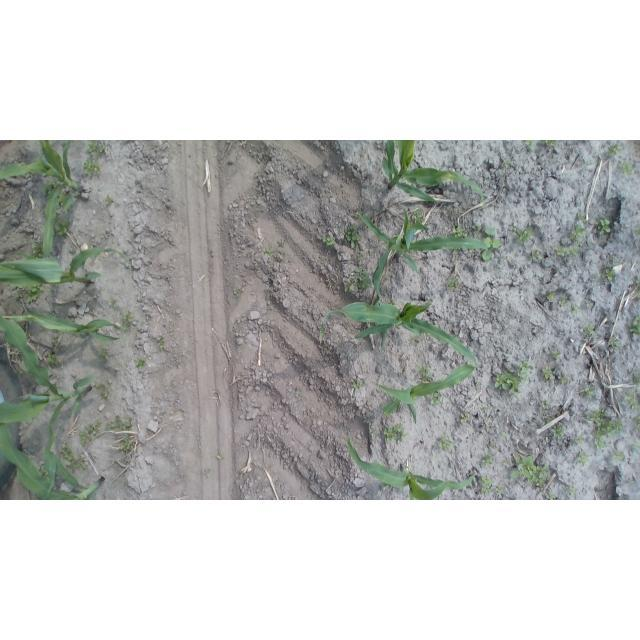Maize: (1, 308, 97, 495), (358, 207, 492, 304), (2, 140, 85, 260), (318, 301, 478, 363), (347, 436, 478, 501), (1, 424, 106, 500), (373, 357, 477, 424), (382, 140, 485, 206), (0, 247, 130, 288), (2, 310, 125, 343)
Weeds: (510, 455, 550, 489), (586, 408, 623, 436), (480, 227, 500, 262), (61, 444, 86, 471), (493, 371, 519, 394), (79, 421, 101, 445), (383, 422, 408, 442), (106, 416, 133, 433), (23, 284, 46, 303), (345, 224, 362, 249), (511, 225, 534, 243), (517, 360, 534, 384), (569, 224, 587, 244), (354, 269, 371, 289), (595, 216, 612, 236), (83, 159, 101, 177), (416, 365, 434, 383), (87, 140, 107, 156), (479, 474, 493, 496), (625, 389, 640, 409), (121, 309, 134, 331), (44, 179, 61, 195), (53, 219, 69, 236), (121, 434, 136, 452), (448, 225, 468, 237), (439, 435, 454, 451), (95, 383, 109, 400), (630, 315, 640, 337), (593, 436, 607, 451), (540, 367, 554, 382), (574, 451, 588, 466), (603, 268, 616, 284), (31, 241, 43, 258), (619, 161, 633, 175), (552, 424, 564, 440), (629, 370, 640, 387), (156, 335, 167, 352), (429, 391, 442, 405), (445, 278, 459, 291), (582, 383, 595, 397), (46, 351, 59, 365), (412, 210, 425, 224), (350, 378, 365, 390), (607, 143, 621, 155), (539, 140, 560, 148), (553, 244, 567, 256), (530, 248, 543, 260), (322, 235, 335, 247), (135, 356, 147, 369), (584, 323, 596, 336), (567, 246, 579, 259), (482, 454, 494, 467), (344, 277, 354, 292), (459, 412, 471, 424), (543, 491, 559, 500), (612, 450, 625, 461), (569, 304, 581, 315), (103, 195, 115, 206), (109, 298, 120, 310), (50, 337, 60, 350), (265, 247, 276, 258), (557, 297, 568, 308), (57, 193, 67, 205), (99, 347, 109, 359), (551, 348, 561, 360), (567, 485, 577, 497), (524, 141, 537, 150), (577, 213, 588, 223), (559, 374, 569, 385), (608, 340, 620, 349), (502, 157, 511, 169), (545, 291, 555, 301), (233, 287, 243, 297), (584, 299, 594, 309), (215, 452, 226, 461), (634, 416, 640, 432), (632, 441, 640, 453), (14, 288, 22, 300), (539, 400, 549, 409), (495, 486, 504, 496), (472, 224, 483, 232), (448, 209, 457, 218), (585, 160, 594, 169), (576, 436, 585, 445), (412, 333, 421, 342), (295, 389, 304, 398), (635, 280, 640, 296), (40, 465, 48, 475), (543, 417, 551, 426), (369, 428, 377, 437), (503, 459, 511, 467), (610, 258, 618, 266), (451, 333, 460, 340), (277, 239, 285, 246), (481, 407, 489, 414), (266, 285, 270, 298), (450, 249, 460, 254), (388, 298, 396, 304), (594, 273, 601, 279), (279, 252, 285, 259), (487, 443, 493, 449), (499, 434, 506, 439), (636, 228, 640, 236), (469, 249, 475, 254), (364, 420, 371, 424), (440, 376, 445, 381)
